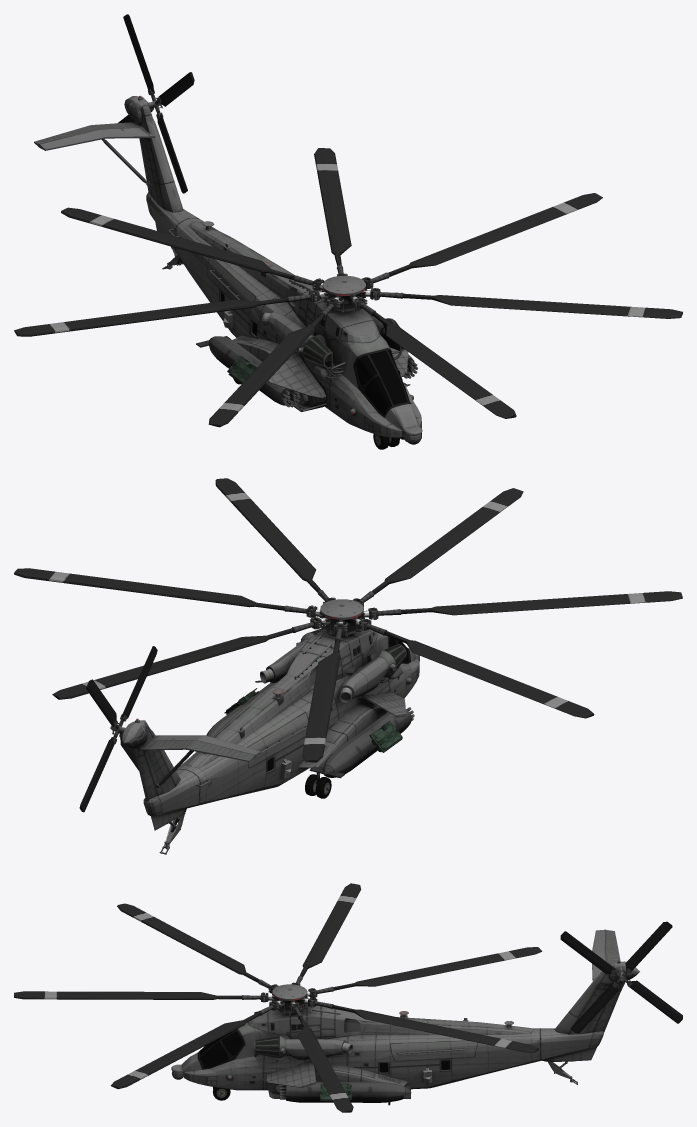
Rendered from blackout-vehicle.glb.
3 renders of one model, top to bottom at view 1: azimuth 30°, elevation 25°; view 2: azimuth 150°, elevation 25°; view 3: azimuth 270°, elevation 25°, orthographic. The views are drawn at different scales.
Visible parts, largest first — view 1: chassis_0, moving_rotor_4, door_lf_ok_2, moving_rotor2_5; view 2: chassis_0, moving_rotor_4, moving_rotor2_5; view 3: chassis_0, moving_rotor_4, moving_rotor2_5, door_lf_ok_2.
Boxes of the visible parts, <box> form: chassis_0: <box>34,95,422,449</box>; moving_rotor_4: <box>14,148,682,427</box>; door_lf_ok_2: <box>343,341,411,417</box>; moving_rotor2_5: <box>118,14,194,193</box>; chassis_0: <box>110,628,419,854</box>; moving_rotor_4: <box>14,478,682,762</box>; moving_rotor2_5: <box>79,646,157,812</box>; chassis_0: <box>171,929,639,1105</box>; moving_rotor_4: <box>14,883,542,1112</box>; moving_rotor2_5: <box>560,921,682,1033</box>; door_lf_ok_2: <box>198,1025,253,1069</box>.
Size of the model in its own units: 22.19 by 8.33 by 27.48.
Materials: 2 (1 with a texture image).
